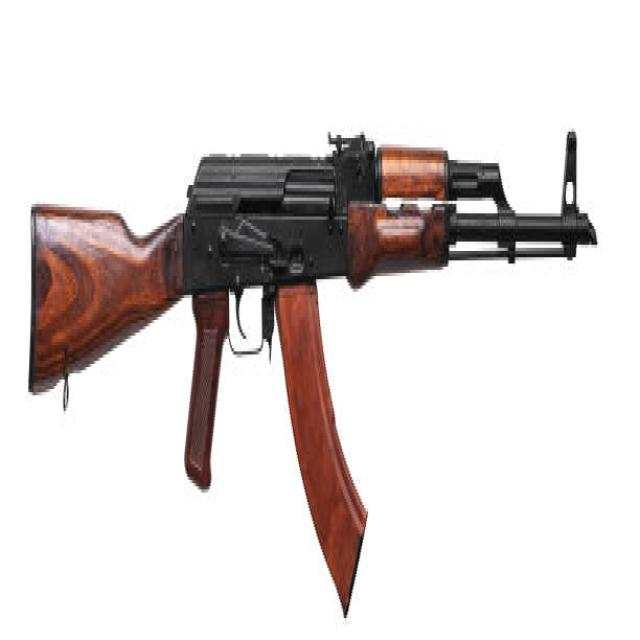rifle: (23, 111, 600, 636)
